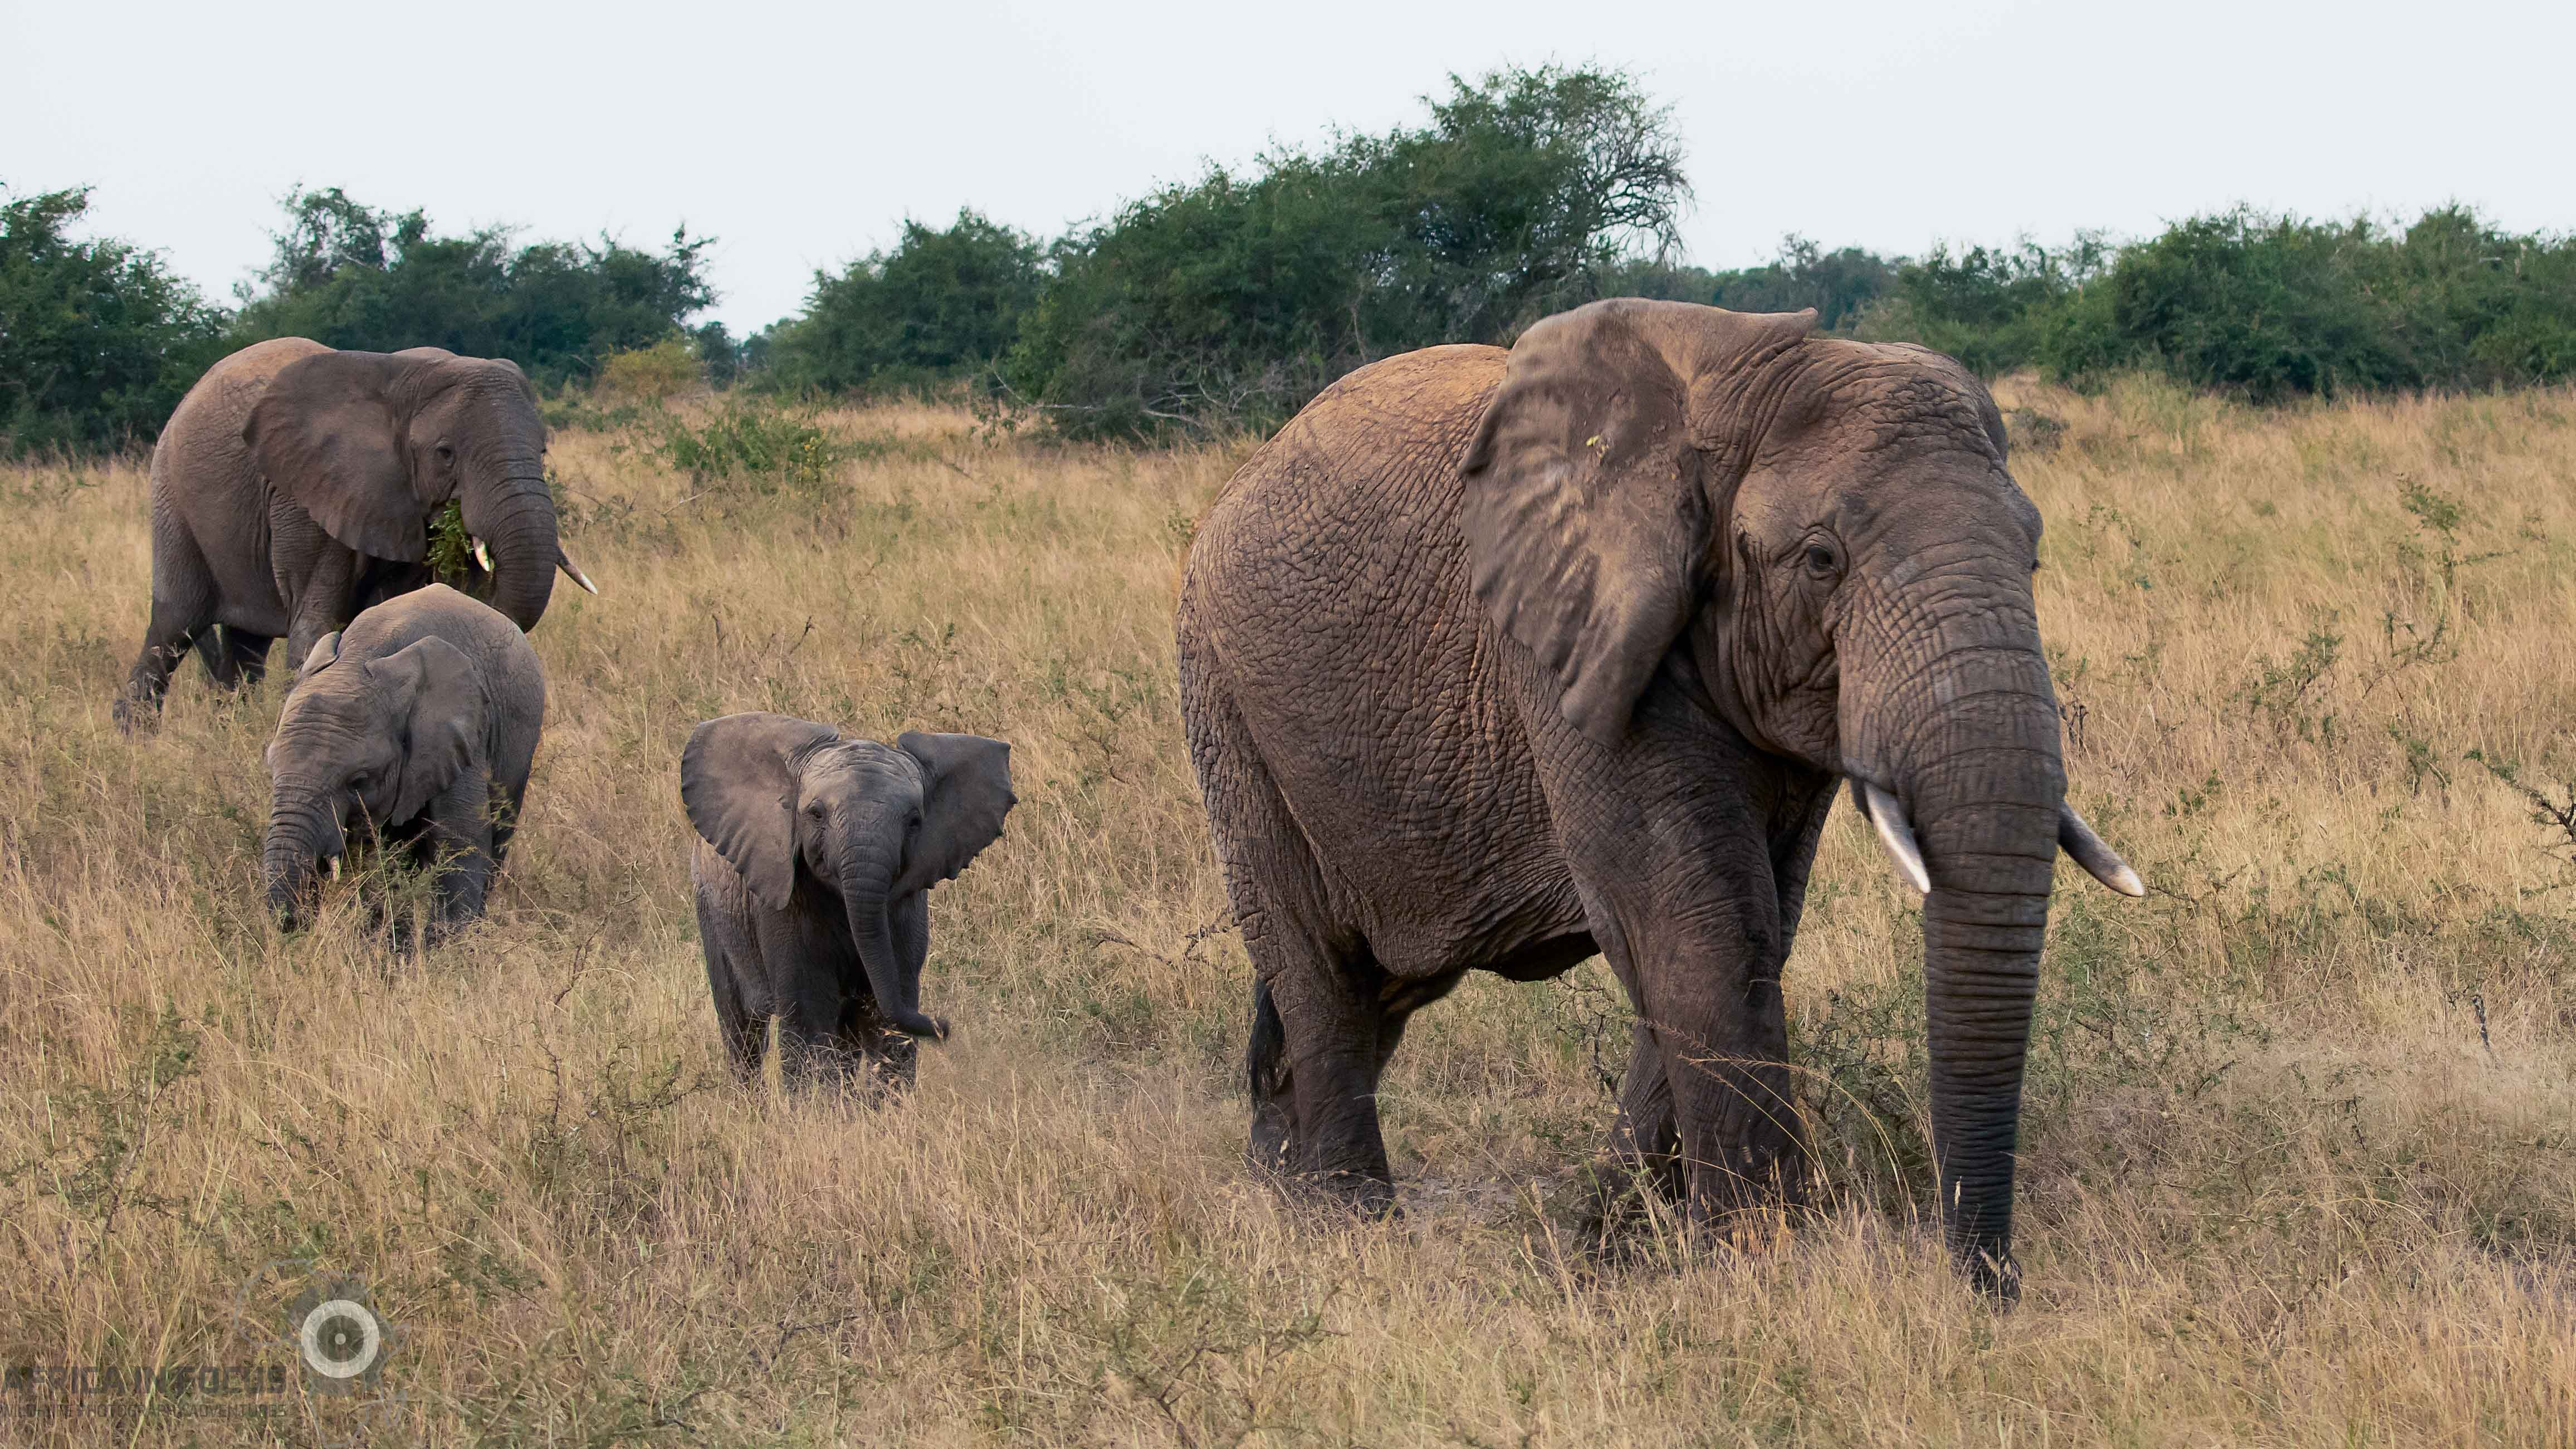elephant: (1161, 285, 2178, 1338), (101, 326, 566, 789), (662, 701, 1019, 1131), (235, 577, 552, 984)
